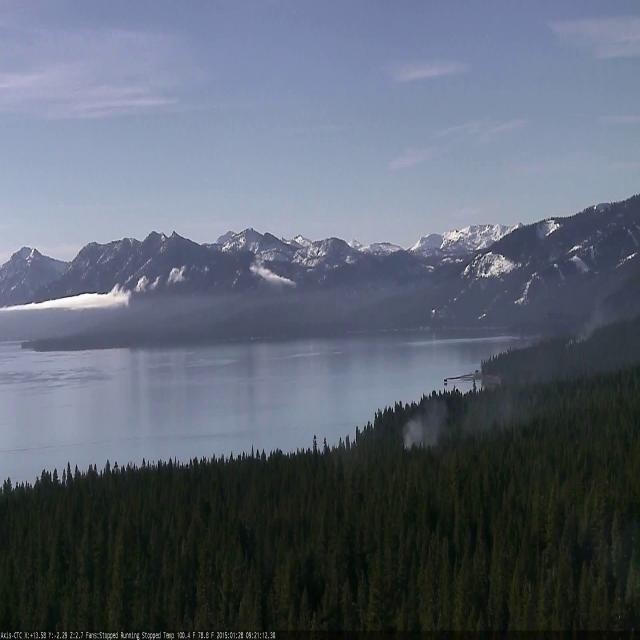smoke: (400, 387, 550, 471), (560, 286, 636, 358)
